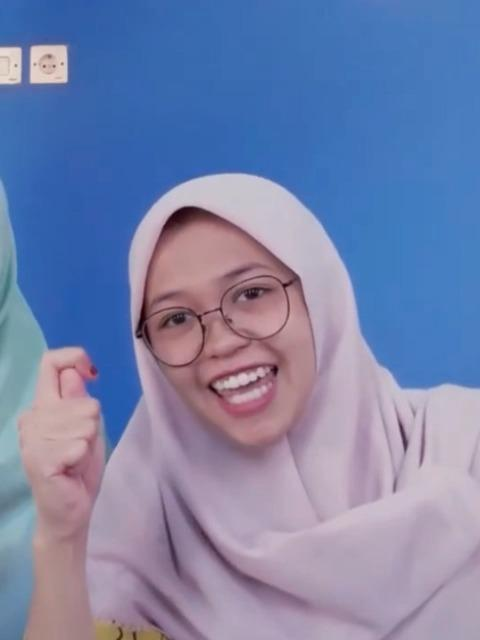T: (18, 346, 108, 534)
